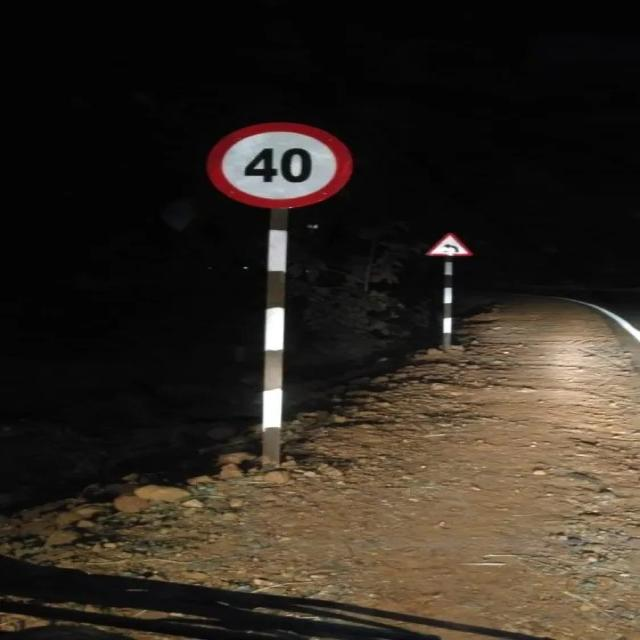left_hand_curve: (422, 230, 488, 261)
speedlimit_40: (202, 117, 358, 209)
